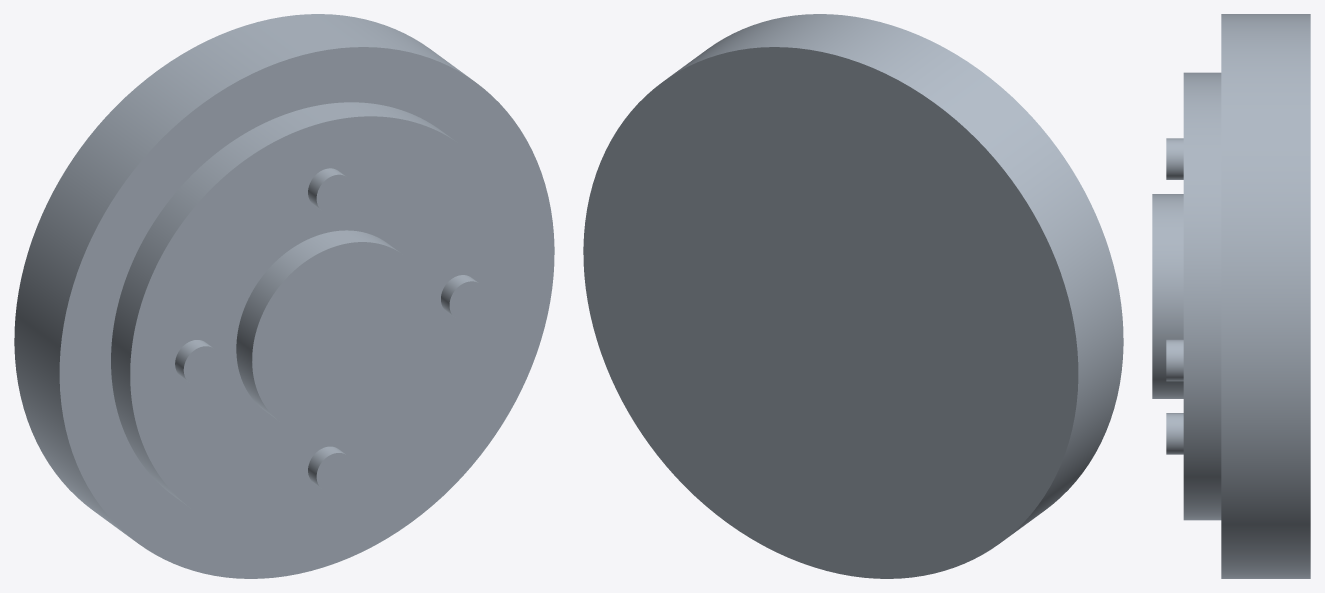
Rendered from selo.glb.
3 renders of one model, left to right at view 1: azimuth 30°, elevation 25°; view 2: azimuth 150°, elevation 25°; view 3: azimuth 270°, elevation 25°, orthographic.
Visible parts, largest first — view 1: Campo do brasão, Aro entalhado, Sol em relevo, Remate 1, Remate 3, Remate 2, Remate 4; view 2: Aro entalhado; view 3: Aro entalhado, Campo do brasão, Sol em relevo, Remate 3, Remate 2, Remate 4.
Boxes of the visible parts, bbox=[...] form: Campo do brasão: bbox=[111, 102, 522, 537]; Aro entalhado: bbox=[14, 14, 554, 578]; Sol em relevo: bbox=[236, 230, 431, 435]; Remate 1: bbox=[175, 340, 220, 385]; Remate 3: bbox=[441, 275, 485, 320]; Remate 2: bbox=[308, 168, 352, 213]; Remate 4: bbox=[308, 446, 352, 491]; Aro entalhado: bbox=[583, 14, 1123, 578]; Aro entalhado: bbox=[1221, 14, 1310, 578]; Campo do brasão: bbox=[1183, 72, 1221, 520]; Sol em relevo: bbox=[1152, 194, 1183, 398]; Remate 3: bbox=[1166, 339, 1183, 381]; Remate 2: bbox=[1166, 138, 1183, 179]; Remate 4: bbox=[1166, 413, 1183, 454].
Size of the model in its own units: 0.7599 by 0.7599 by 0.213.
